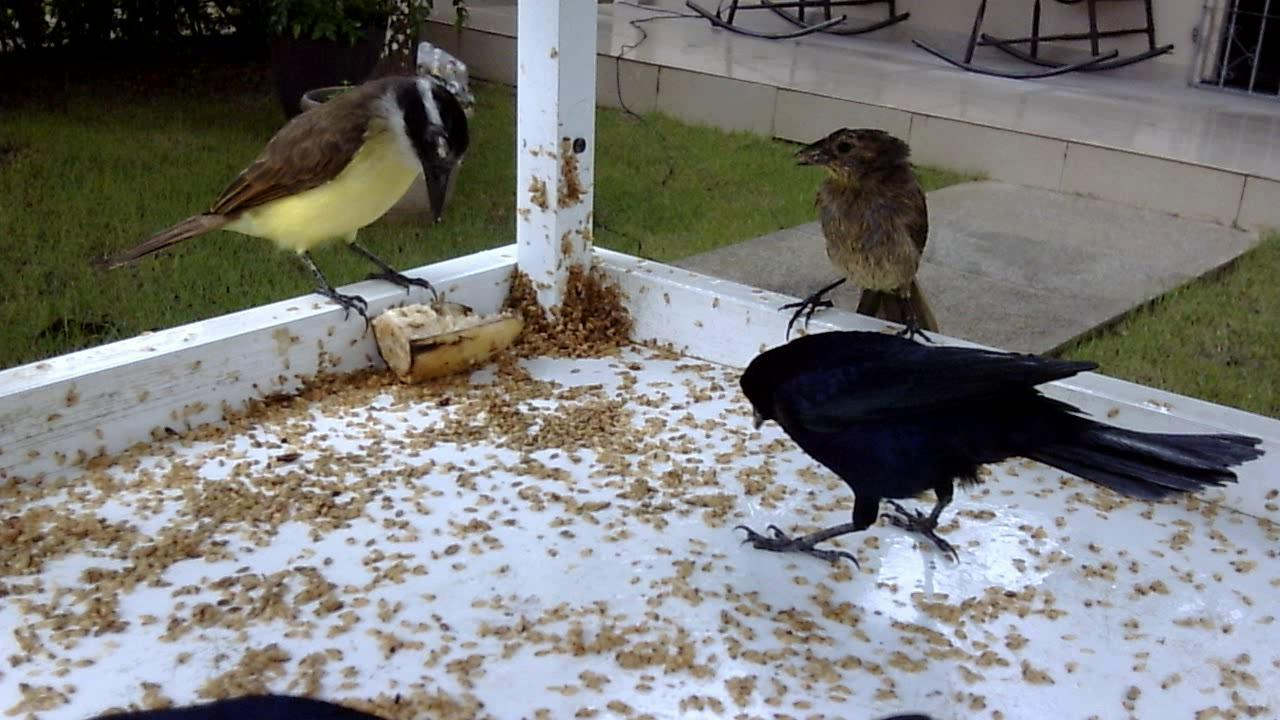bem_te_vi: (89, 63, 482, 343)
chupim: (721, 293, 1268, 587), (767, 116, 961, 354)
